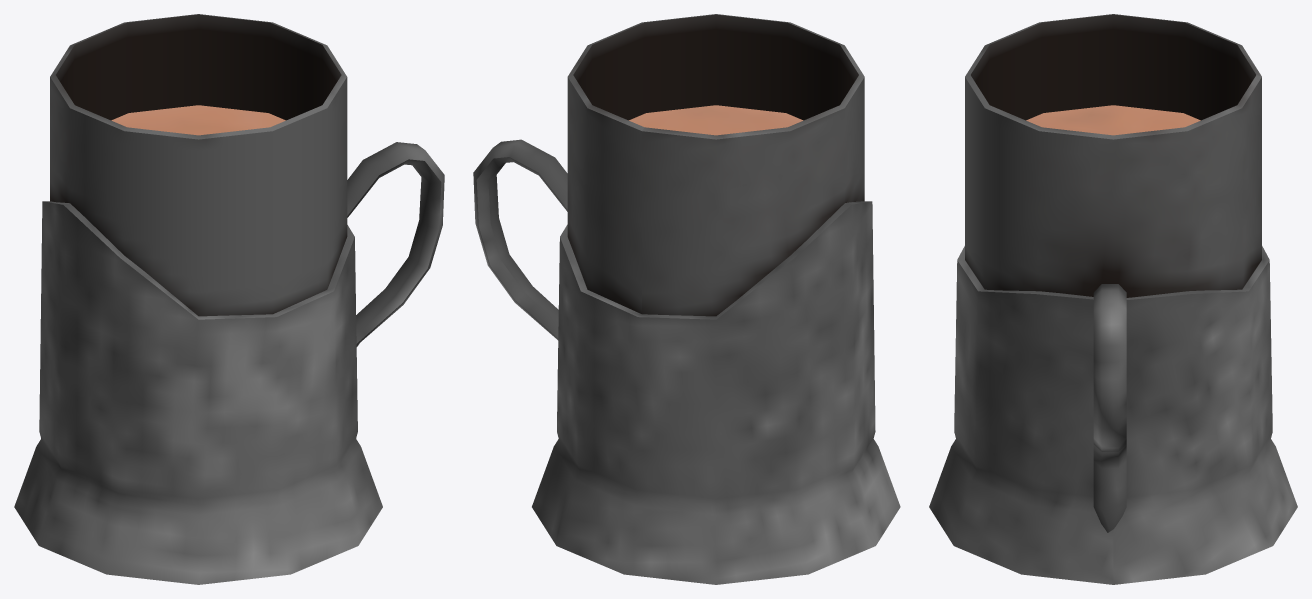
The model's file is SM_Tea.fbx.
3 views of the same model, side by side, from view 1: azimuth 30°, elevation 25°; view 2: azimuth 150°, elevation 25°; view 3: azimuth 270°, elevation 25° (orthographic).
Visible parts, largest first — view 1: SM_Tea; view 2: SM_Tea; view 3: SM_Tea.
Part boxes in pixels (x1,y1,x2,y2): SM_Tea: (14, 14, 444, 584); SM_Tea: (473, 14, 900, 584); SM_Tea: (929, 14, 1297, 584).
Bounding box in the file's own units: 0.1843 × 0.1472 × 0.1902.
